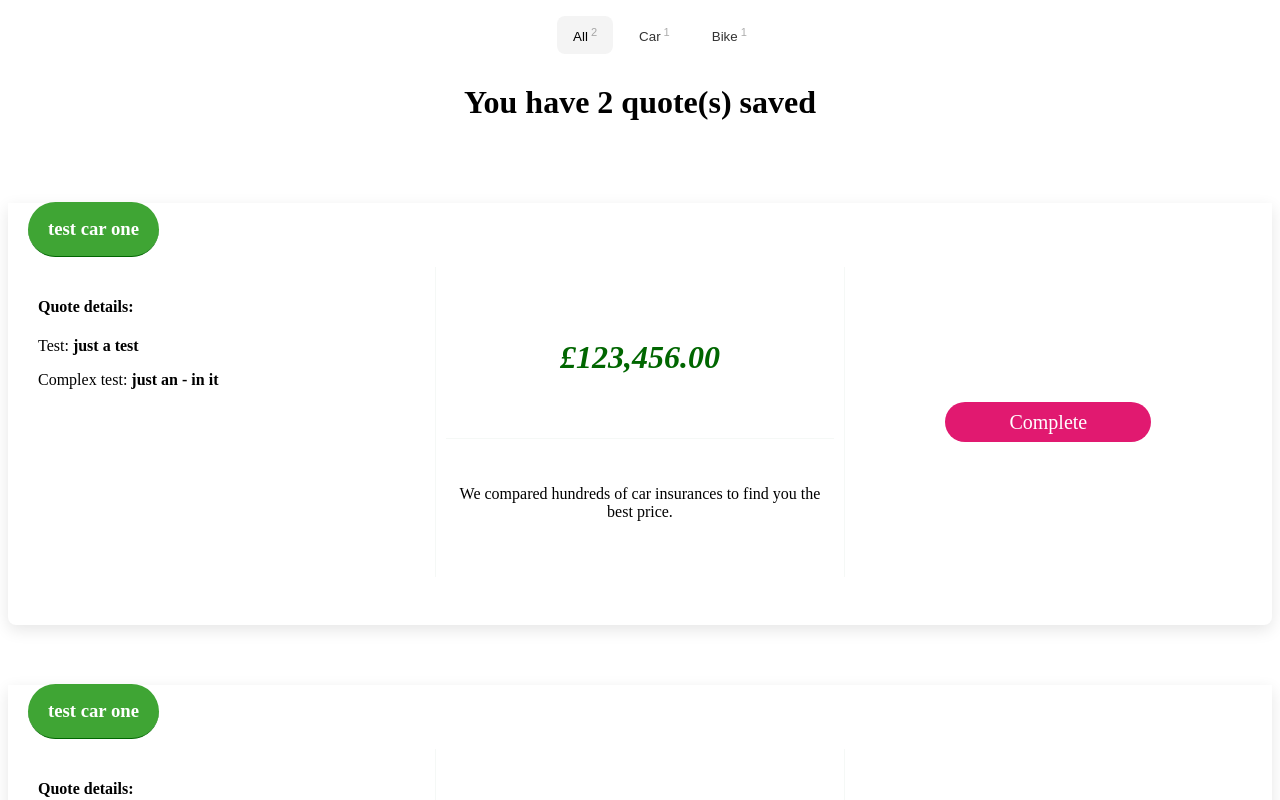
Test: QuotesListing to filter quotes
Click the button with test id "filter" showing "Car1": (654, 35) [623,16,686,54]
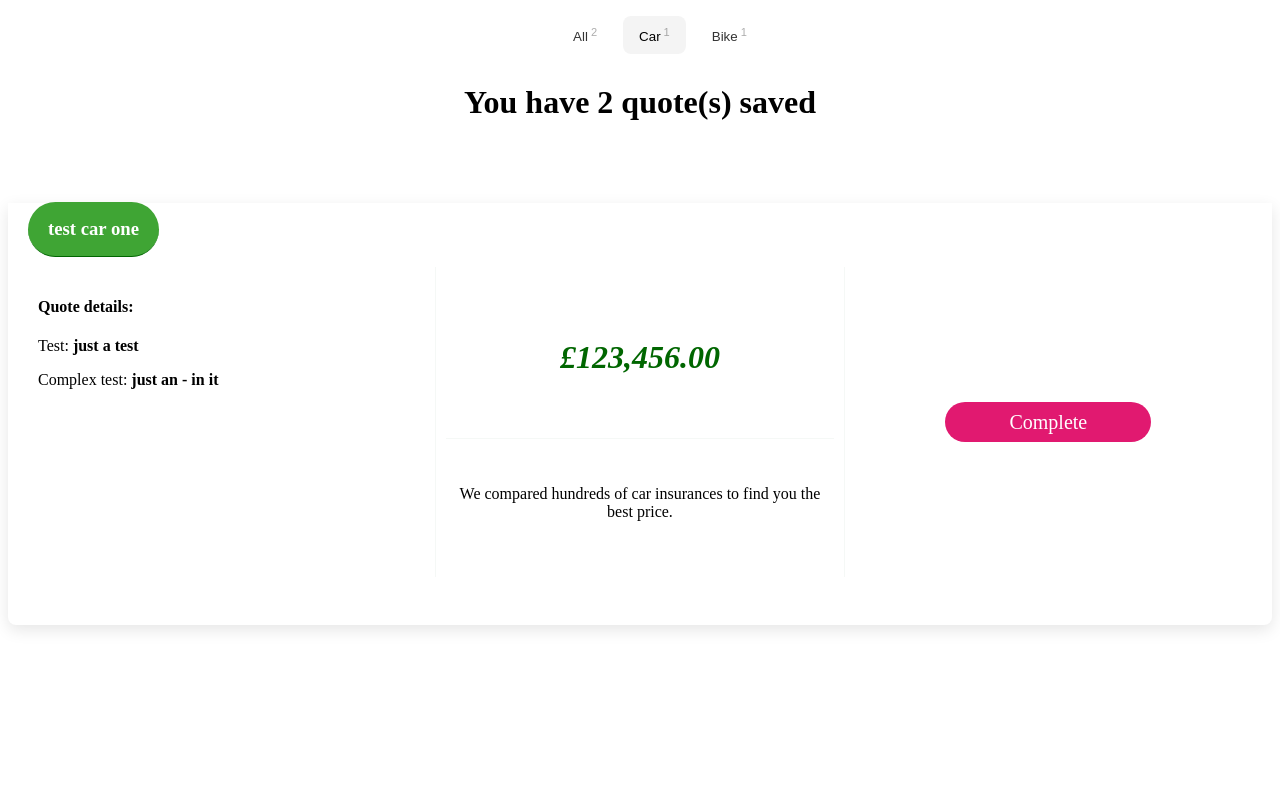
Expected: the number of elements with test id "quote" is 1, [8,203,1272,625]
